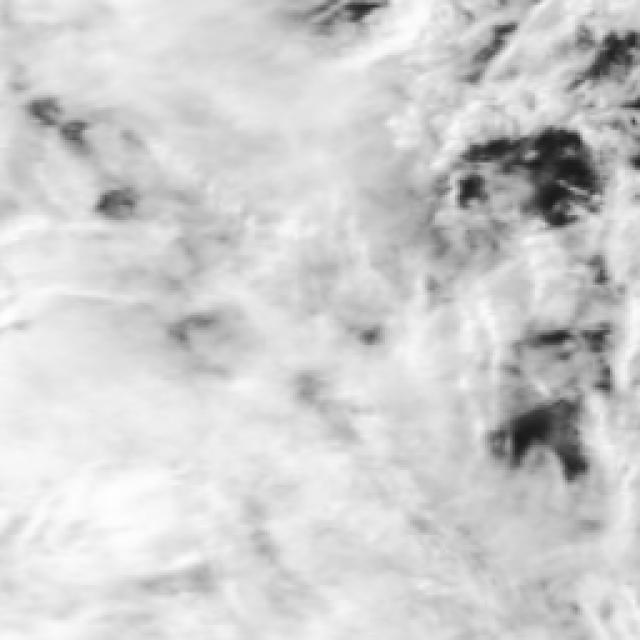CB: (232, 268, 449, 530), (0, 414, 245, 640), (0, 211, 243, 422), (244, 37, 441, 281), (235, 467, 502, 640)
